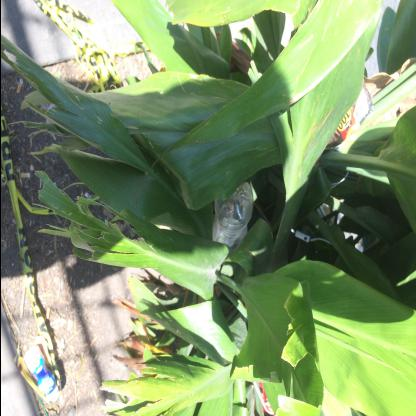plastik: (208, 180, 252, 254), (23, 344, 59, 402)
